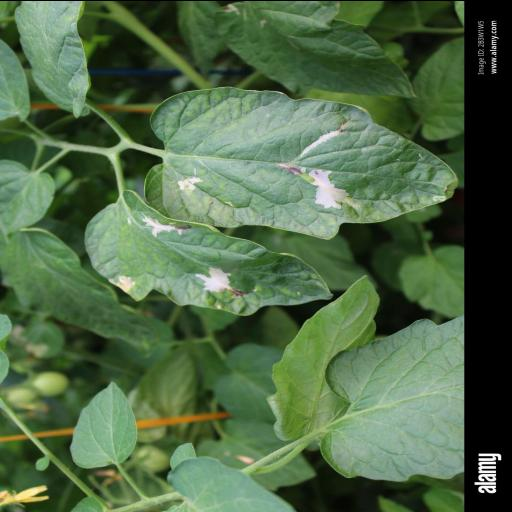disease_tomato: (134, 82, 464, 240), (80, 186, 336, 318)
